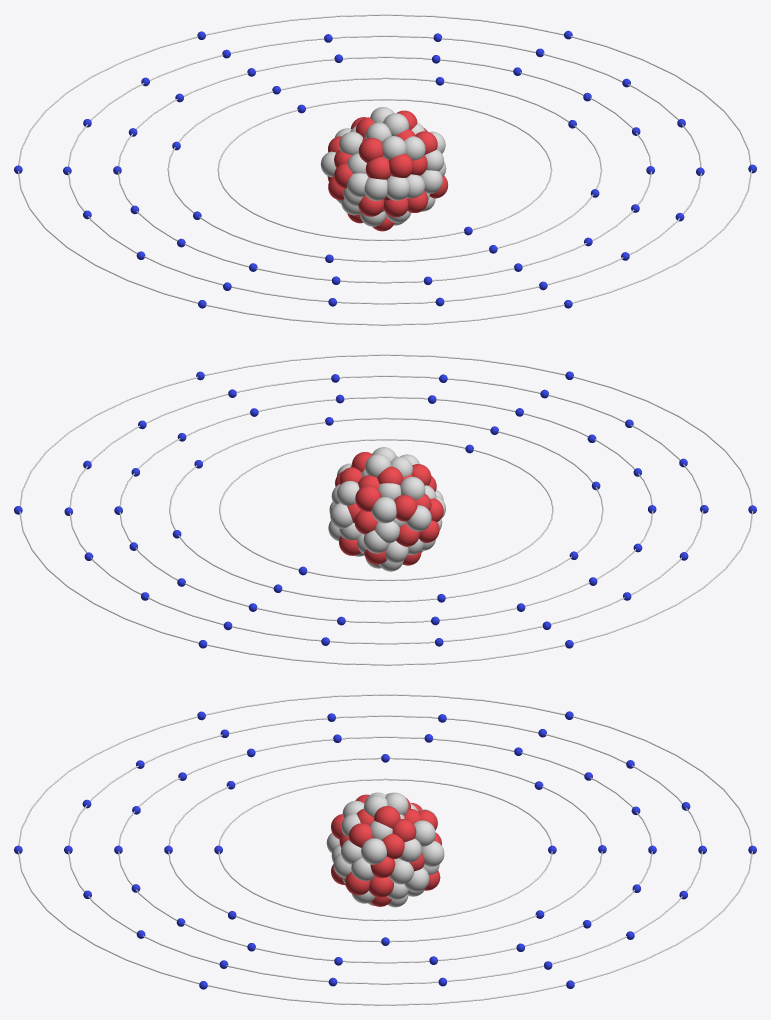
Rendered from Tellur.glb.
3 views of the same model, one above another, from view 1: azimuth 30°, elevation 25°; view 2: azimuth 150°, elevation 25°; view 3: azimuth 270°, elevation 25° (orthographic).
Parts seen in each view (by area): view 1: O-Schale, N-Schale, M-Schale, L-Schale, K-Schale; view 2: O-Schale, N-Schale, M-Schale, L-Schale, K-Schale, Neutron 45; view 3: O-Schale, N-Schale, M-Schale, L-Schale, K-Schale, Neutron 73.
Boxes of the visible parts, x1,y1,x2,y2 form: O-Schale: [18, 14, 752, 325]; N-Schale: [68, 35, 701, 304]; M-Schale: [118, 56, 651, 283]; L-Schale: [167, 77, 602, 262]; K-Schale: [217, 99, 552, 240]; O-Schale: [19, 354, 753, 665]; N-Schale: [69, 375, 703, 644]; M-Schale: [119, 396, 653, 623]; L-Schale: [169, 417, 603, 602]; K-Schale: [219, 439, 553, 580]; Neutron 45: [371, 497, 396, 523]; O-Schale: [18, 694, 752, 1005]; N-Schale: [68, 715, 702, 984]; M-Schale: [118, 736, 652, 963]; L-Schale: [168, 757, 602, 942]; K-Schale: [218, 778, 552, 921]; Neutron 73: [361, 838, 386, 864].
Bounding box in the file's own units: 22.04 × 3.71 × 22.26.
